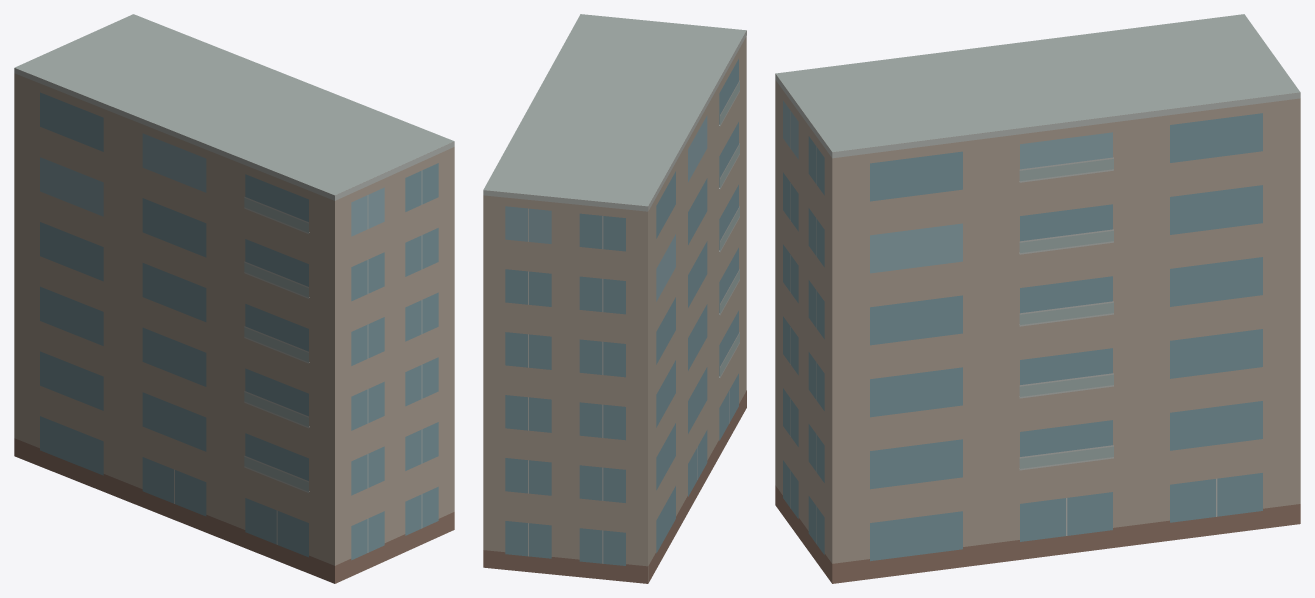
The model's file is survey-upis-32561051.glb.
3 views of the same model, side by side, from view 1: azimuth 30°, elevation 25°; view 2: azimuth 150°, elevation 25°; view 3: azimuth 270°, elevation 25° (orthographic). The views are drawn at different scales.
Visible parts, largest first — view 1: survey-upis-32561051.tmp; view 2: survey-upis-32561051.tmp; view 3: survey-upis-32561051.tmp.
Boxes of the visible parts, <box> form: survey-upis-32561051.tmp: <box>14,14,454,583</box>; survey-upis-32561051.tmp: <box>483,14,746,583</box>; survey-upis-32561051.tmp: <box>775,14,1300,583</box>.
Bounding box in the file's own units: 12 × 17.45 × 19.26.
